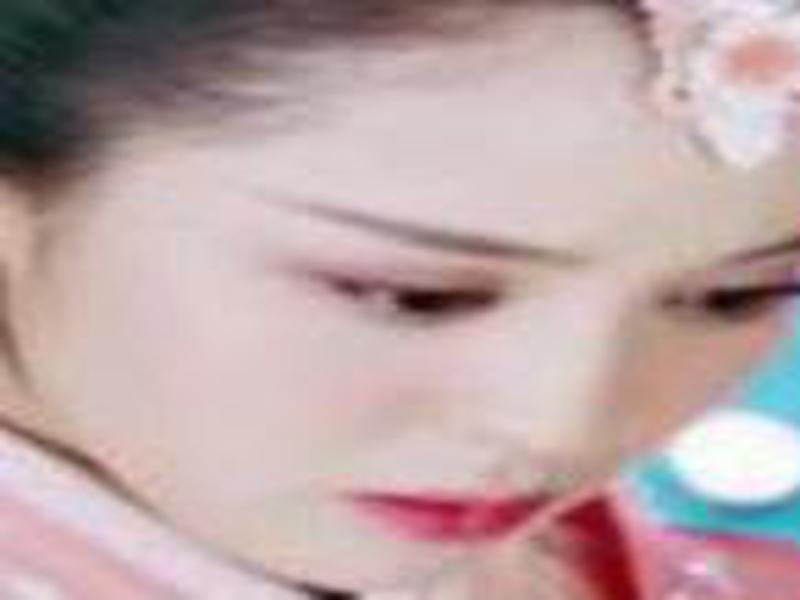without_mask: (16, 14, 800, 600)
